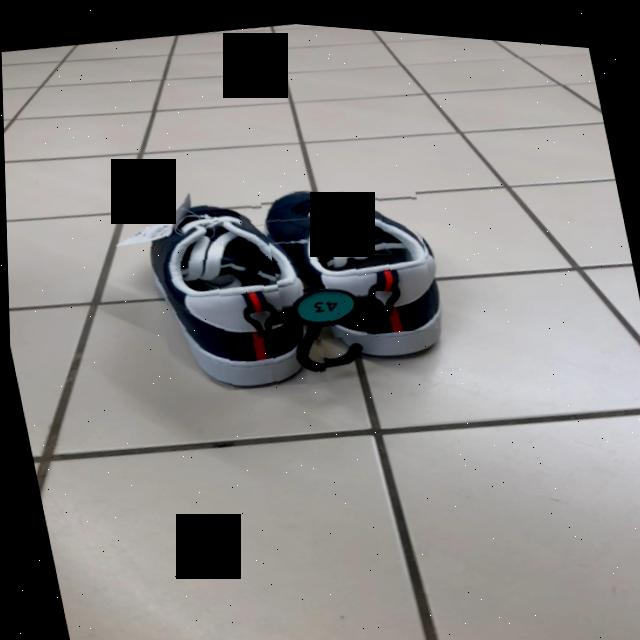shoe: (146, 197, 320, 385), (264, 188, 432, 329)
